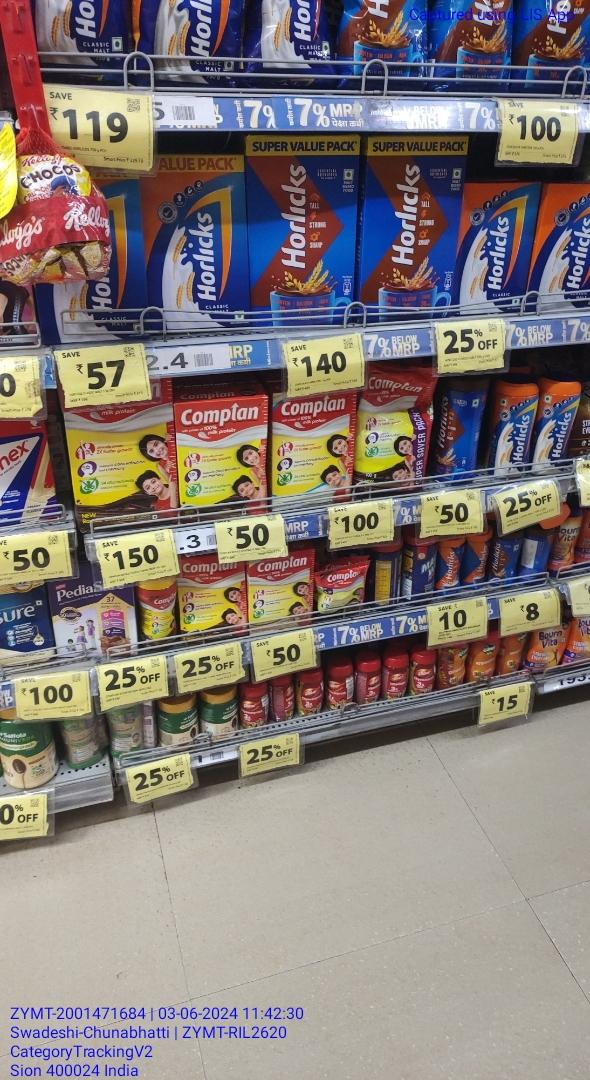COMPLAN_CHOCOLATE_200_GMS_JAR: (139, 577, 178, 652)
COMPLAN_RC_POUCH_700_GMS_12: (360, 369, 431, 496)
HORLICK_CHOCOLATE_1_KG_PACK: (248, 133, 357, 327), (362, 132, 456, 320)
HORLICK_CHOCOLATE_200_G_JAR: (435, 536, 464, 597), (465, 531, 490, 590)
